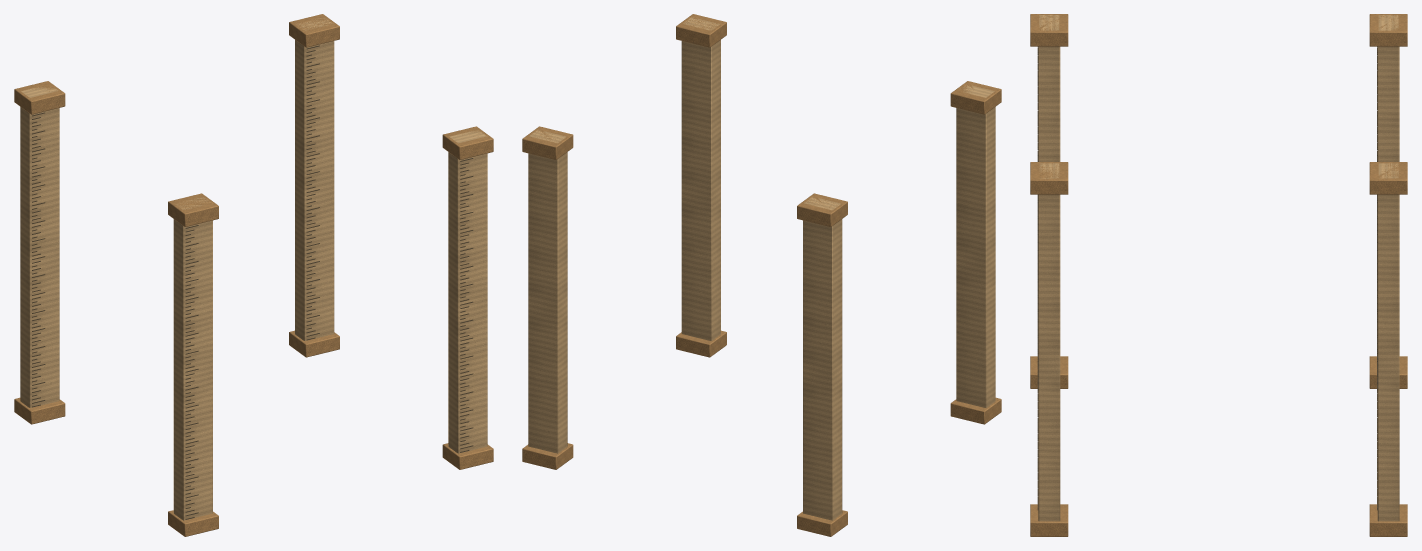
File: 4-four-rulers-with-plain-ticks.fbx
The picture shows the model from 3 angles, left to right: view 1: azimuth 30°, elevation 25°; view 2: azimuth 150°, elevation 25°; view 3: azimuth 270°, elevation 25°; orthographic projection. The views are drawn at different scales.
Parts seen in each view (by area): view 1: four-rulers-with-plain-ticks; view 2: four-rulers-with-plain-ticks; view 3: four-rulers-with-plain-ticks.
Boxes of the visible parts, <box> form: four-rulers-with-plain-ticks: <box>14,14,493,536</box>; four-rulers-with-plain-ticks: <box>522,14,1001,536</box>; four-rulers-with-plain-ticks: <box>1030,14,1407,536</box>.
Bounding box in the file's own units: 7200 × 7200 × 6900.
1 material, 1 textured.
